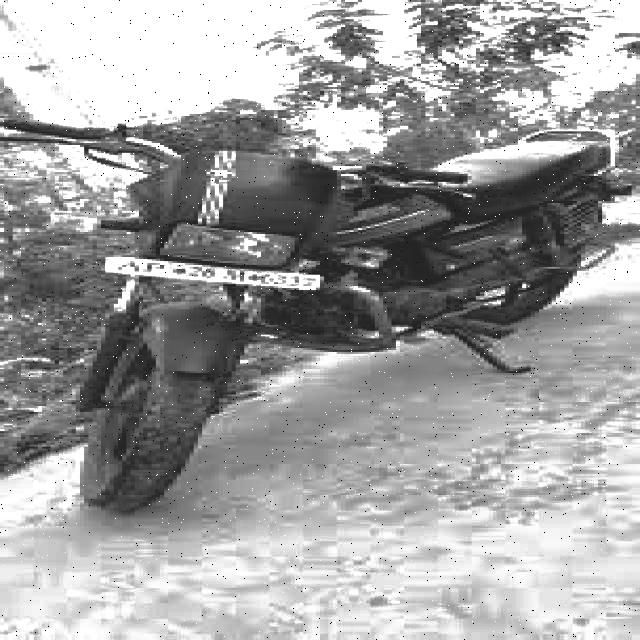Bike: (3, 114, 639, 520)
